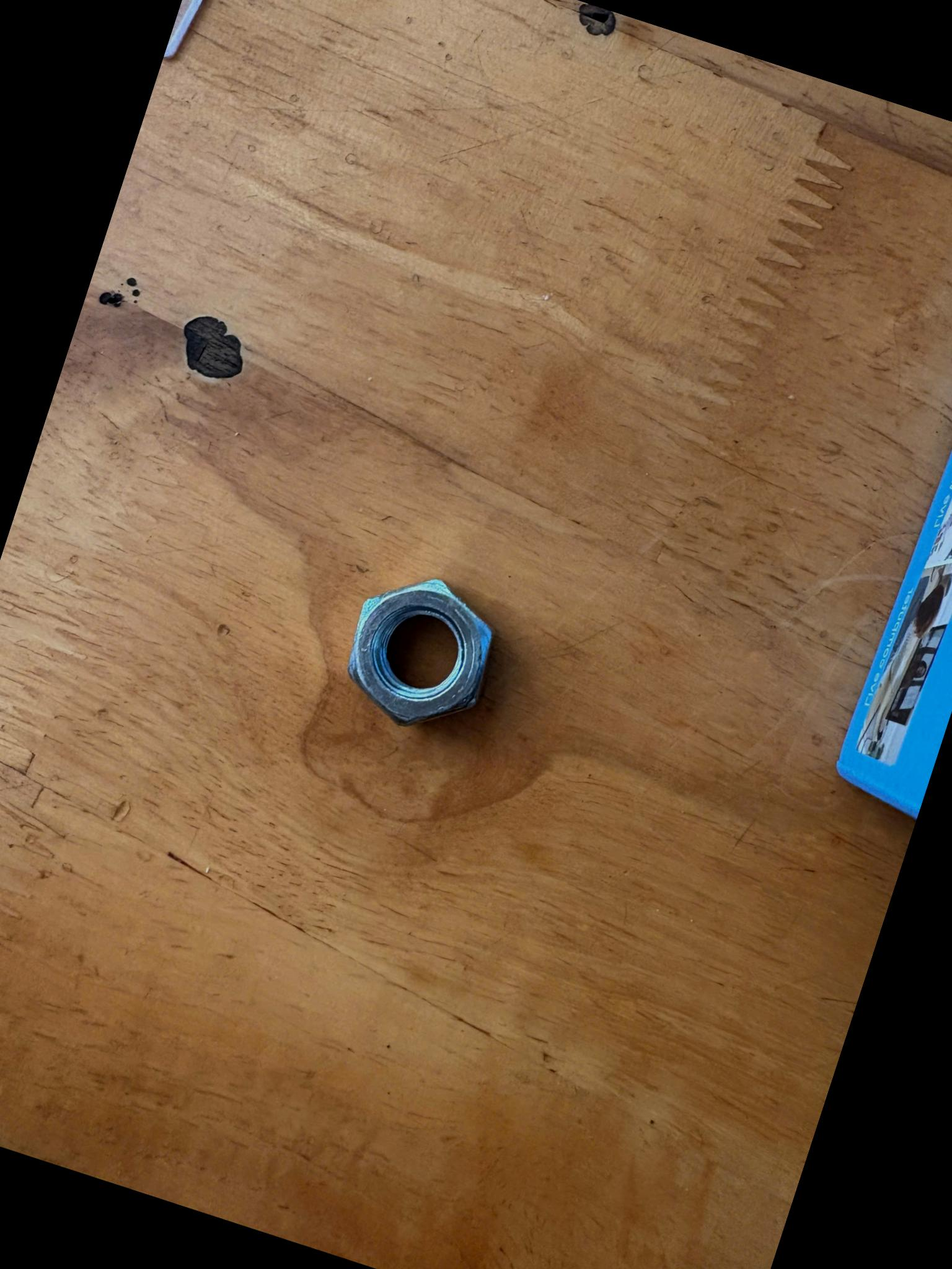nut: (324, 526, 518, 767)
